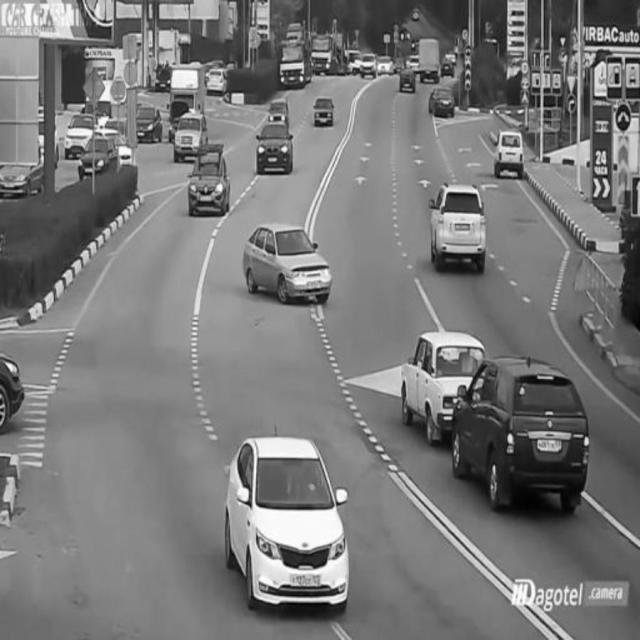vehicle: (219, 434, 360, 611), (459, 356, 593, 520), (396, 315, 466, 437), (245, 219, 336, 305), (429, 179, 489, 270), (182, 141, 236, 222), (72, 126, 120, 184), (1, 348, 33, 430), (253, 119, 298, 175), (493, 121, 528, 188), (171, 101, 208, 162), (275, 39, 311, 89), (132, 96, 162, 151), (65, 104, 91, 162), (428, 83, 458, 119), (358, 49, 382, 86), (313, 94, 337, 129), (397, 61, 419, 98), (207, 64, 229, 98)
